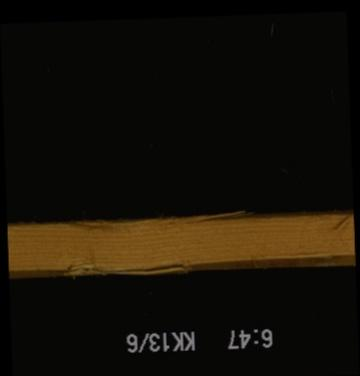wave: (8, 257, 354, 277), (7, 208, 350, 227)
